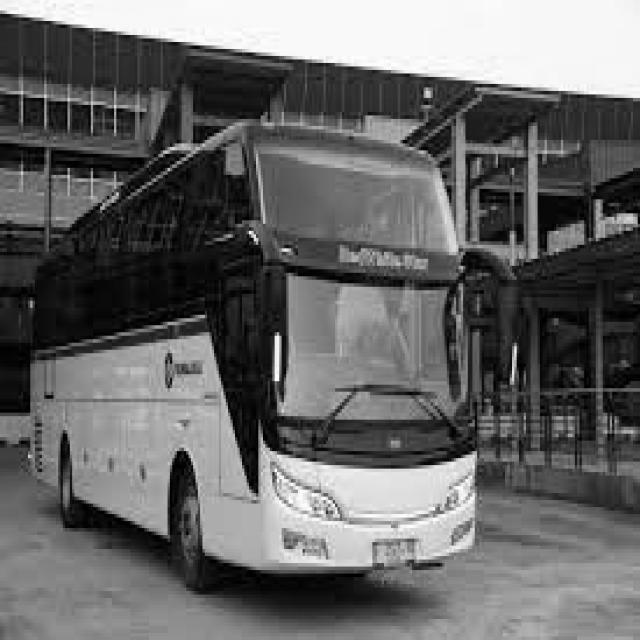Bus: (30, 122, 475, 588)
